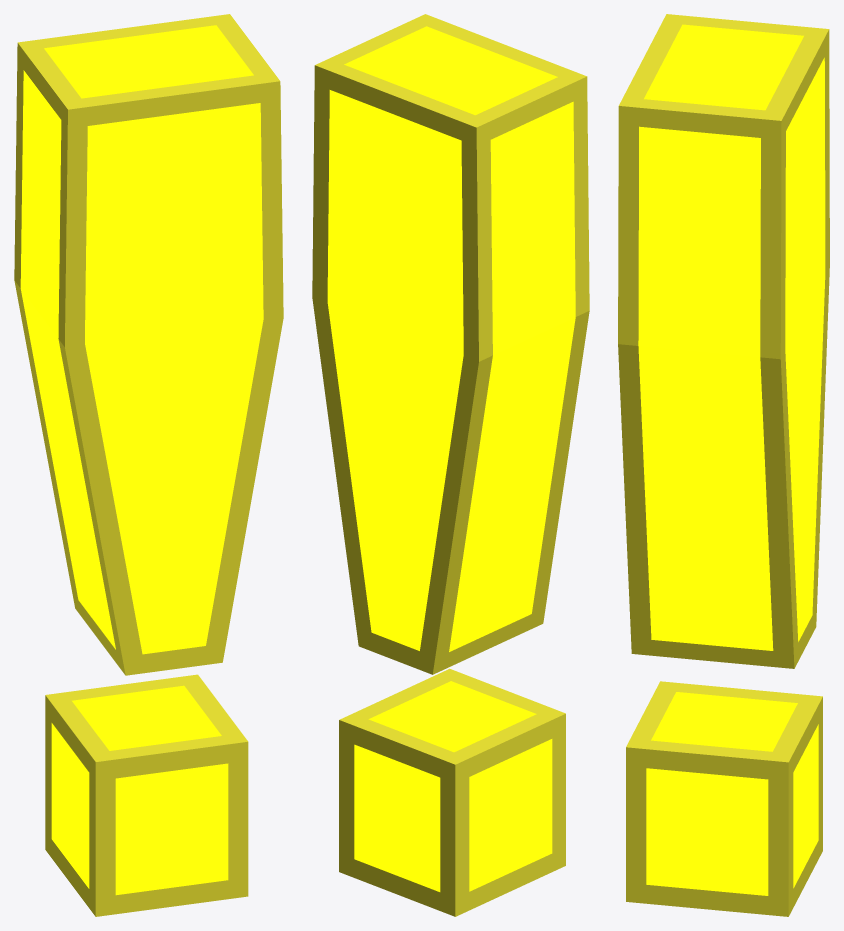
File: Exclamation.fbx
3 views of the same model, side by side, from view 1: azimuth 30°, elevation 25°; view 2: azimuth 150°, elevation 25°; view 3: azimuth 270°, elevation 25° (orthographic).
Parts seen in each view (by area): view 1: Text.006; view 2: Text.006; view 3: Text.006.
Part boxes in pixels (left/top/right/bottom): Text.006: left=14, top=14, right=283, bottom=916; Text.006: left=312, top=14, right=589, bottom=916; Text.006: left=618, top=14, right=829, bottom=916.
Bounding box in the file's own units: 2.73 × 9.38 × 2.23.
